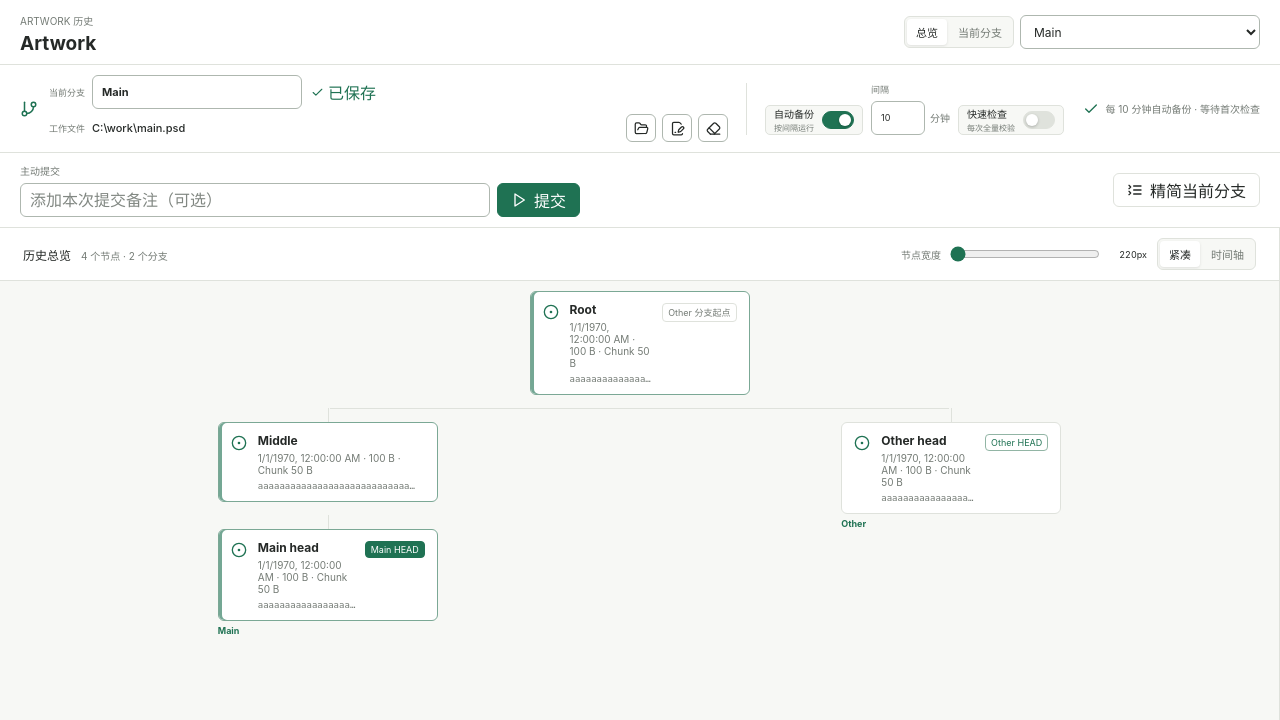
HistoryModule overview interactions › enters compact mode without leaving the overview
Click the button "精简当前分支".
click(1186, 190)  # box [1113,173,1260,207]
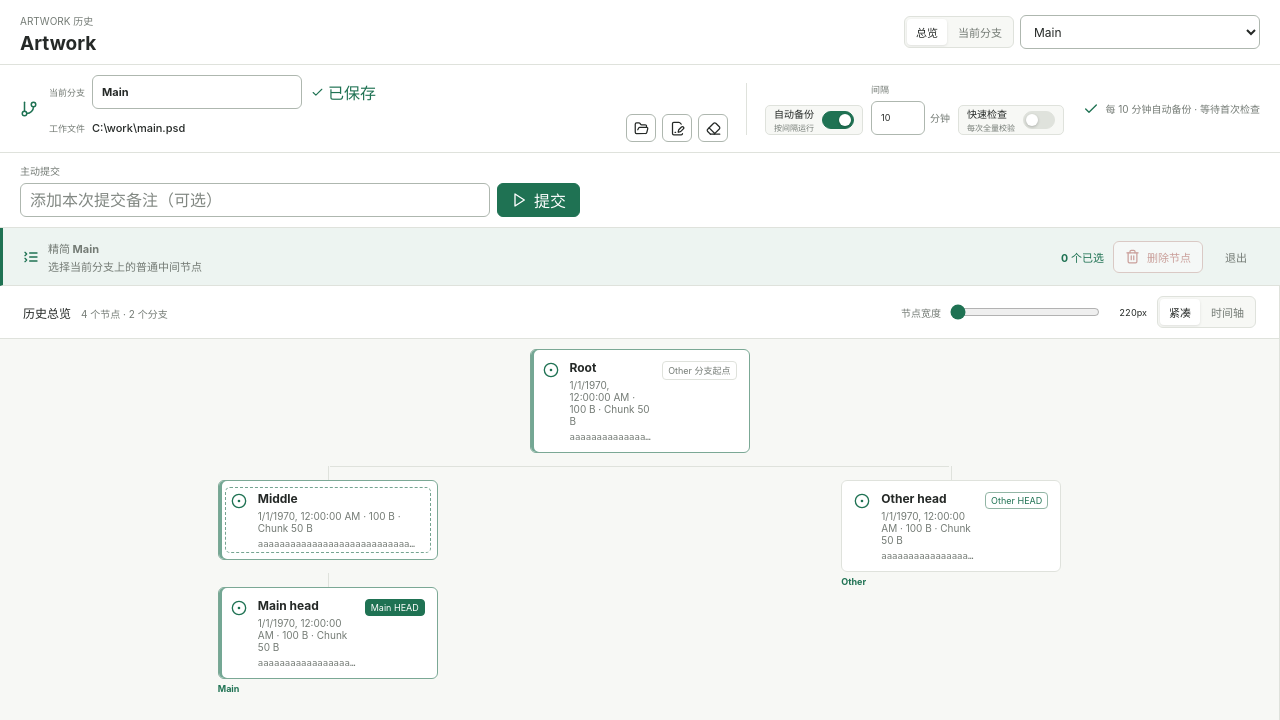
Expected: the text "精简 Main" is shown, [48,242,99,256]
Click the button "Middle".
click(328, 520)  # box [218,480,438,560]
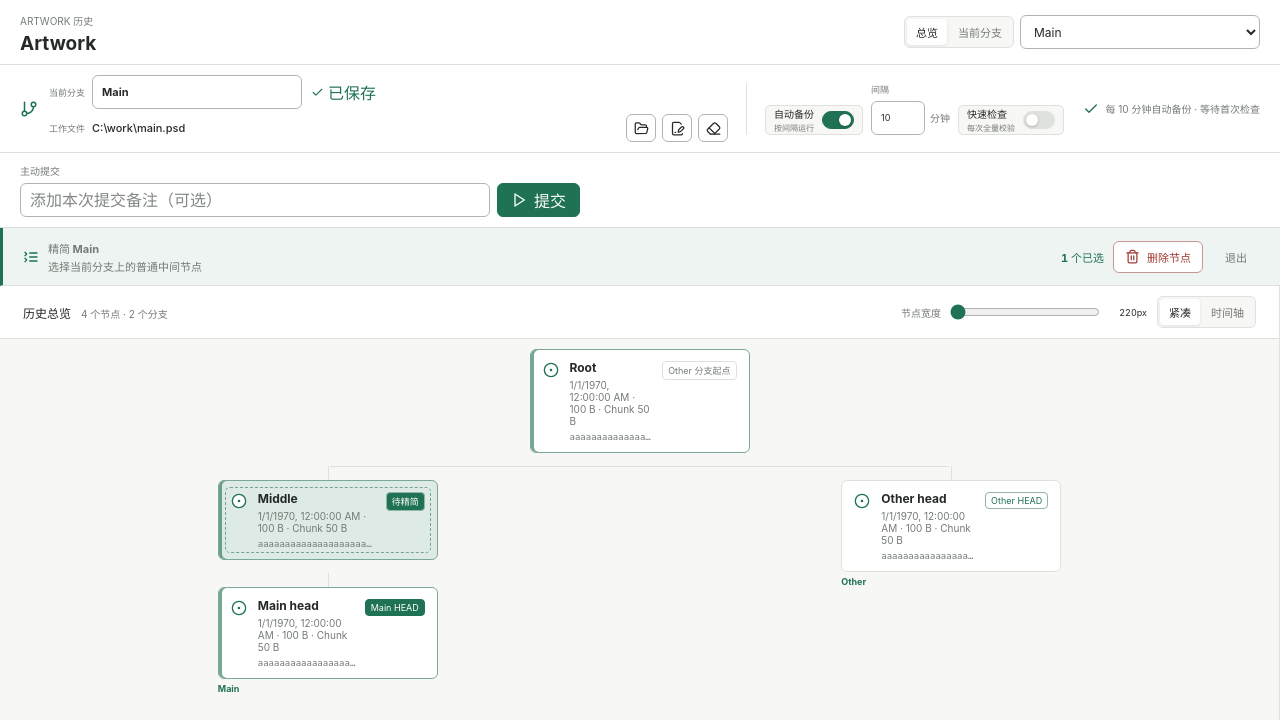
Expected: the text "1 个已选" is shown, [1061,248,1104,264]
